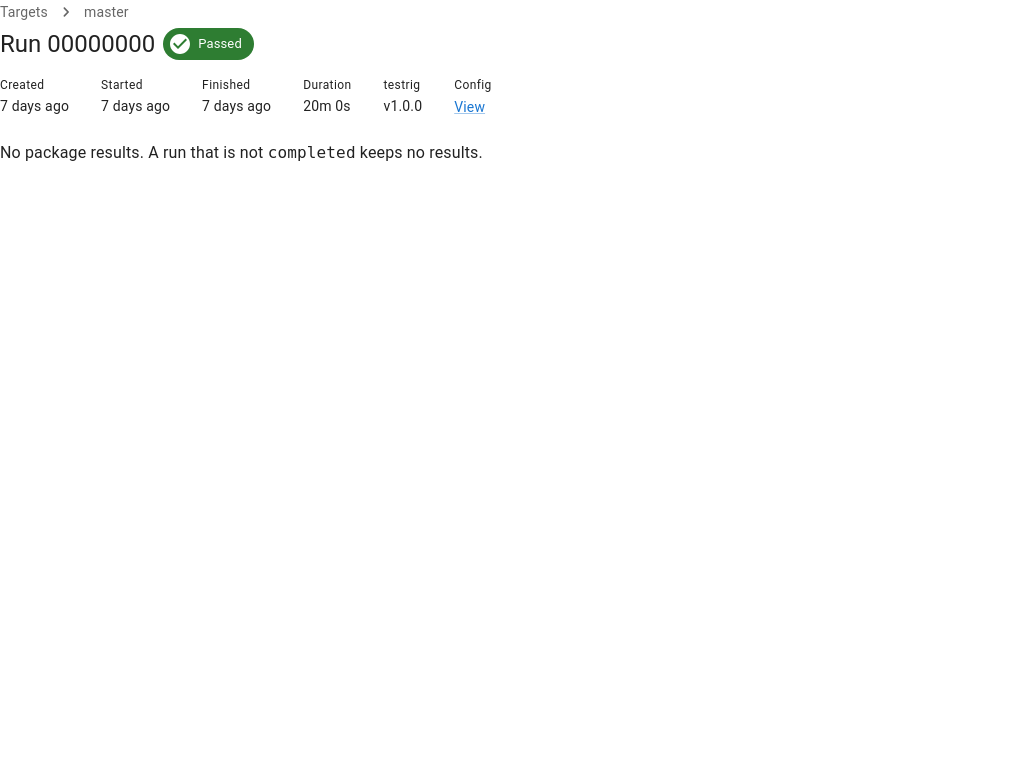
RunDetailPage › shows the testrig config in a dialog, not on the page
Expected: the text "seed_repository" is not shown
Click the button "View" at (470, 107), box top-left (454, 97), bottom-right (485, 117)
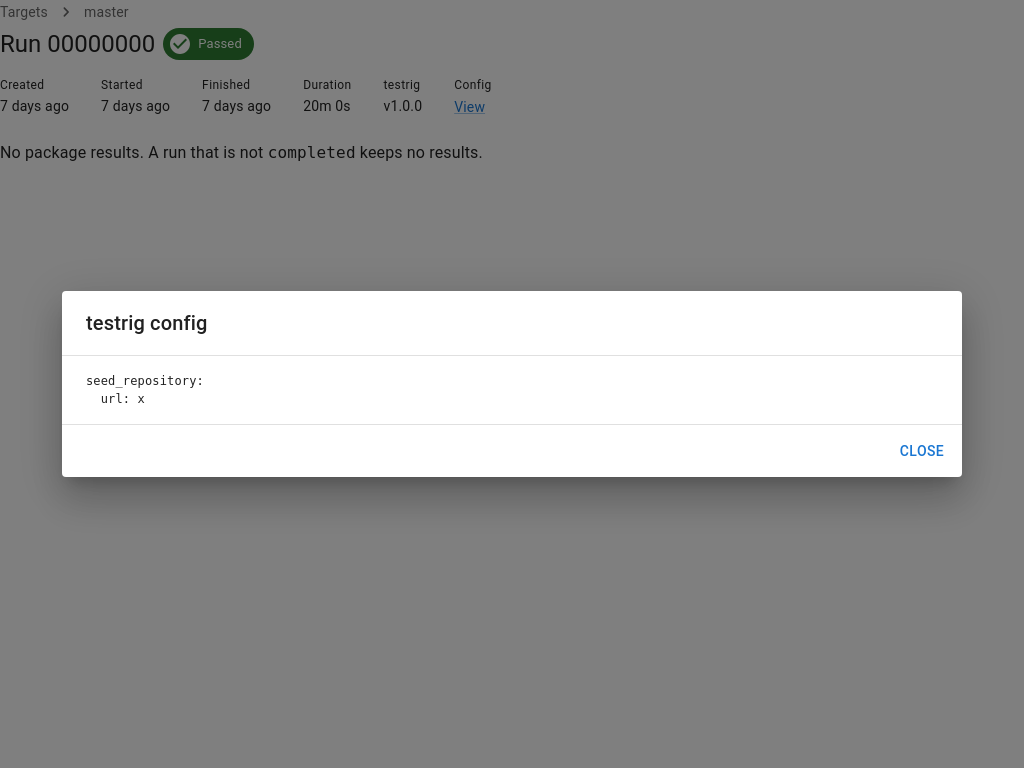
Expected: the text "seed_repository: url: x" is shown, top-left (86, 374), bottom-right (204, 406)
